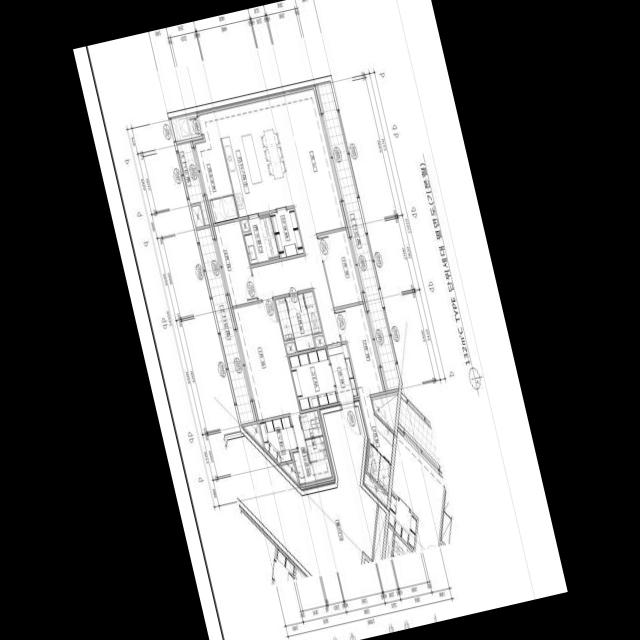background: (73, 0, 567, 640)
space_balconi: (317, 80, 399, 389), (197, 227, 254, 423), (177, 140, 209, 224)
space_bedroom: (231, 299, 299, 420), (334, 302, 385, 442), (212, 220, 257, 305), (317, 228, 364, 307)
space_dressroom: (290, 410, 315, 484), (259, 415, 296, 464), (370, 412, 393, 463)
space_elevator_hall: (226, 405, 377, 575)
space_front: (327, 343, 359, 403)
space_kitchen: (213, 95, 293, 216), (192, 107, 238, 223)
space_living_room: (251, 84, 347, 344)
space_multipurpose_space: (243, 212, 280, 264)
space_other: (288, 348, 338, 409), (271, 207, 303, 257), (371, 390, 398, 431), (363, 471, 387, 507), (373, 504, 386, 560), (242, 422, 264, 450), (279, 462, 298, 486), (191, 204, 204, 227), (314, 334, 325, 347), (285, 341, 295, 353), (240, 218, 249, 231)
space_outdoor_room: (170, 111, 201, 140)
space_toilet: (285, 293, 315, 350), (305, 435, 332, 480), (275, 297, 294, 339), (303, 290, 321, 333), (299, 410, 322, 438), (367, 443, 380, 481), (378, 454, 390, 492)
